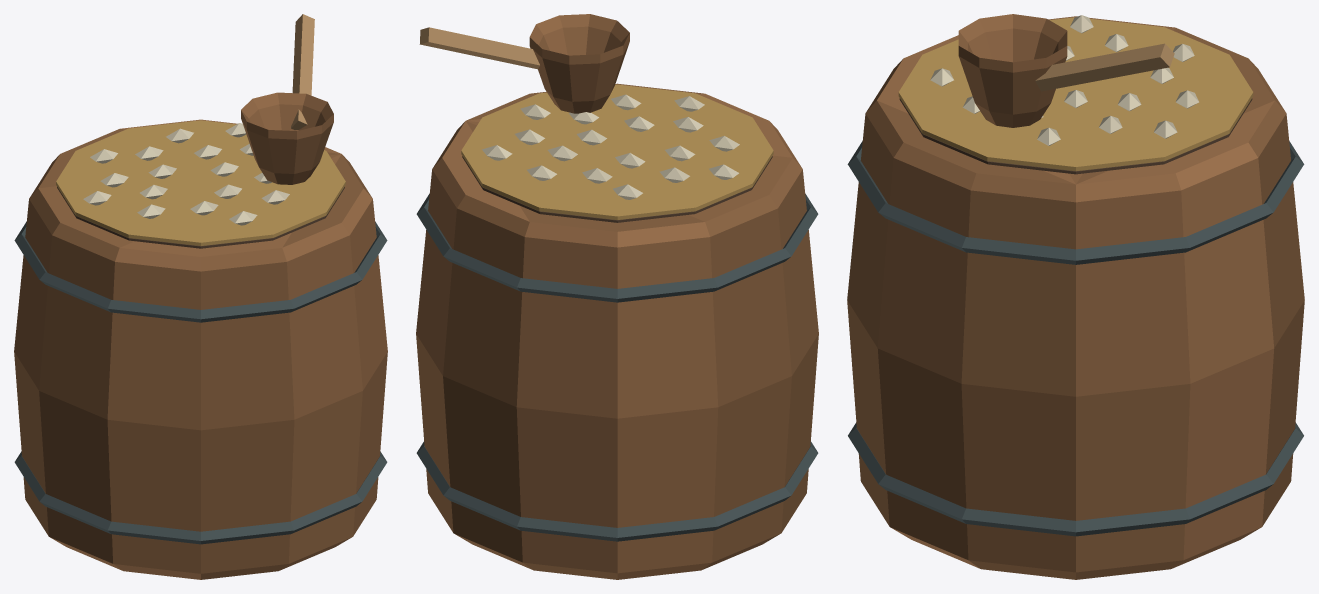
Rendered from barrel_grain.glb.
3 renders of one model, left to right at view 1: azimuth 30°, elevation 25°; view 2: azimuth 150°, elevation 25°; view 3: azimuth 270°, elevation 25°, orthographic. The views are drawn at different scales.
Visible parts, largest first — view 1: geometry; view 2: geometry; view 3: geometry.
Part boxes in pixels (x1,y1,x2,y2): geometry: (14, 14, 387, 579); geometry: (416, 14, 818, 579); geometry: (847, 14, 1304, 579).
Bounding box in the file's own units: 0.8 × 1.04 × 0.8.
